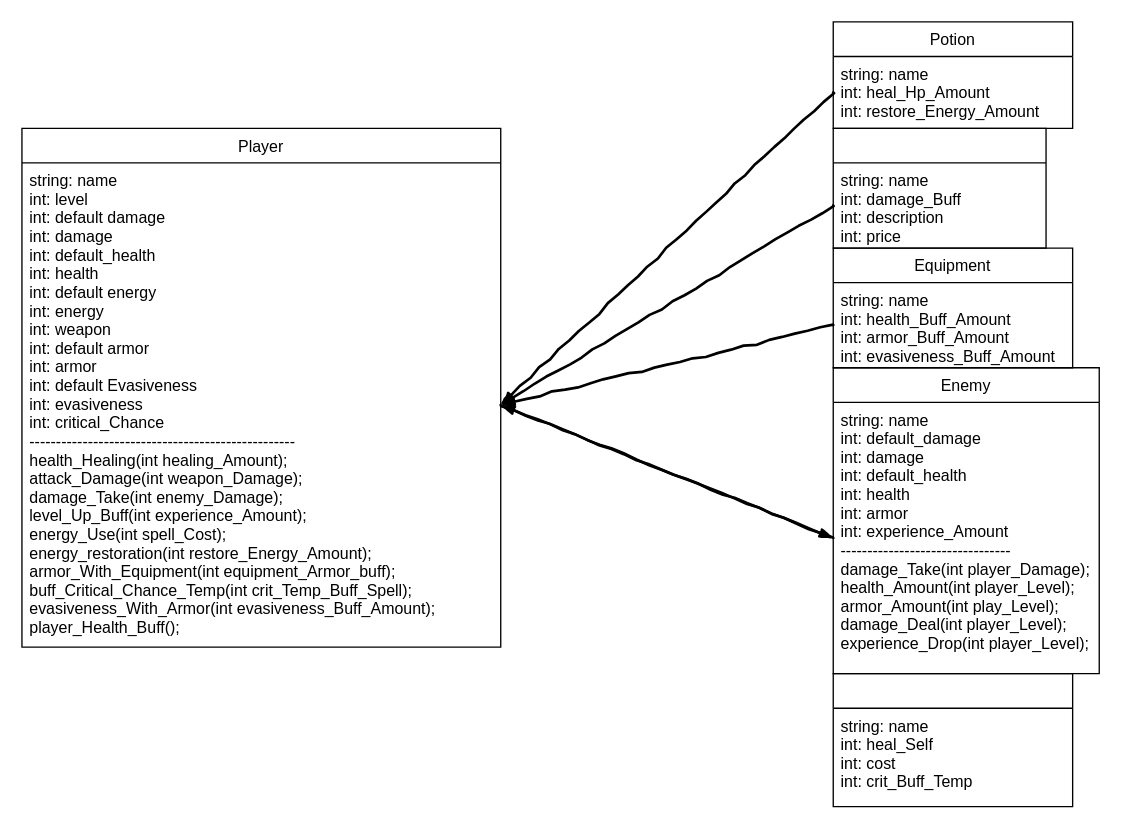
Image size: 1121x829. Some labels were removed from this diagram. Each missing label, with the box of its shape:
Spell: (832, 672, 1073, 807)
Weapon: (832, 127, 1046, 248)
